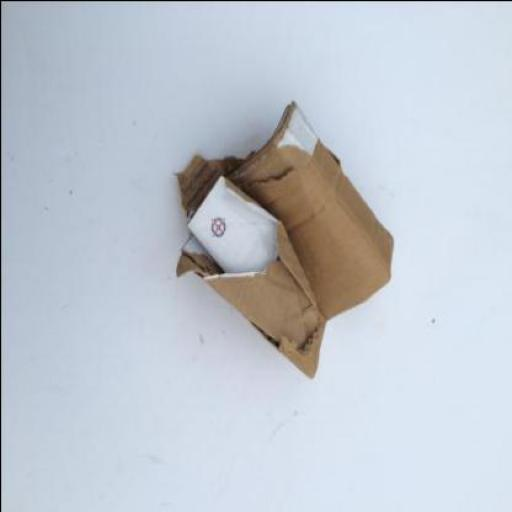cardboard: (175, 102, 395, 380)
